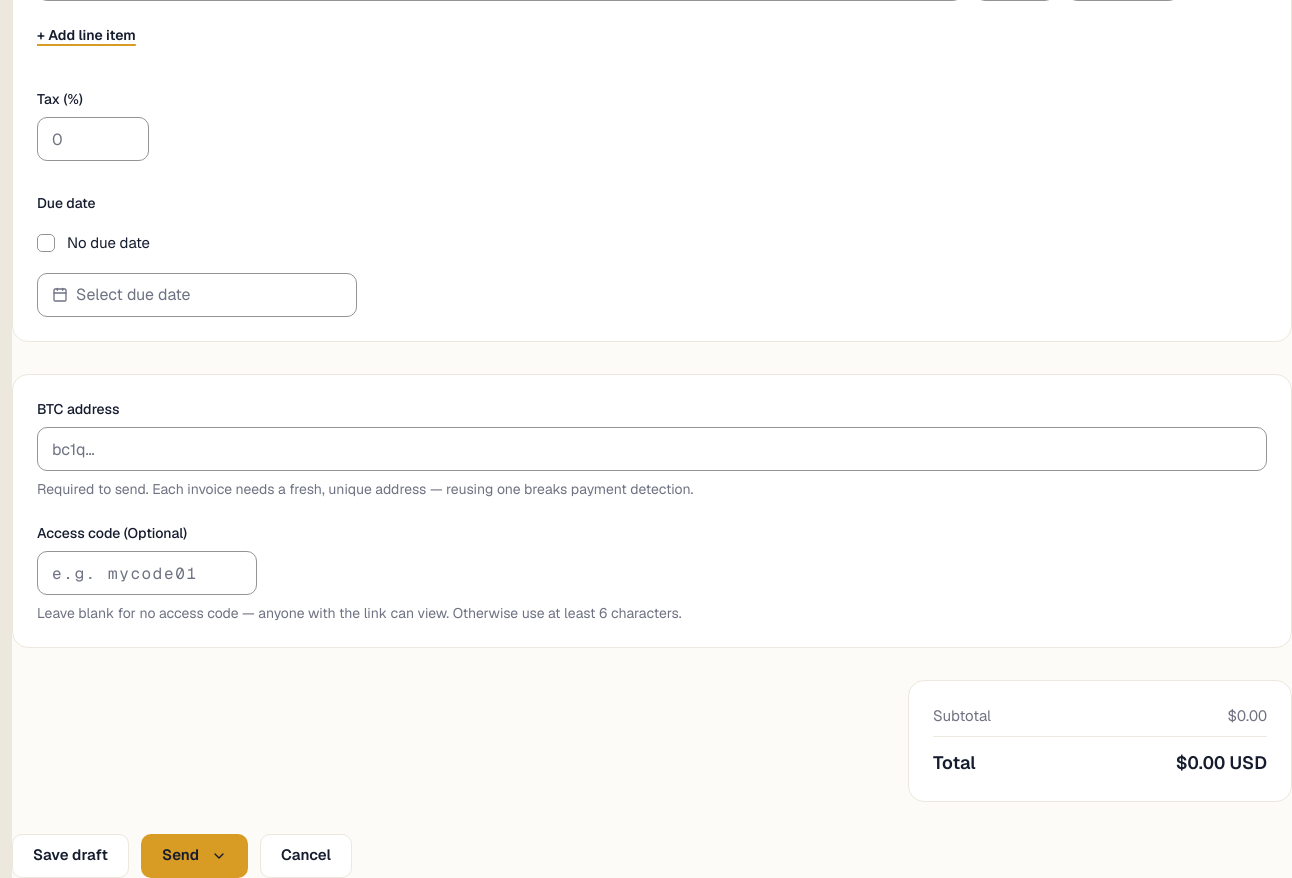
InvoiceForm Send menu (v1.5.19) › offers the three ways to send, and no Publish only
(page scrolled)
Click the button "Send" at (194, 856), box [141,834,248,877]
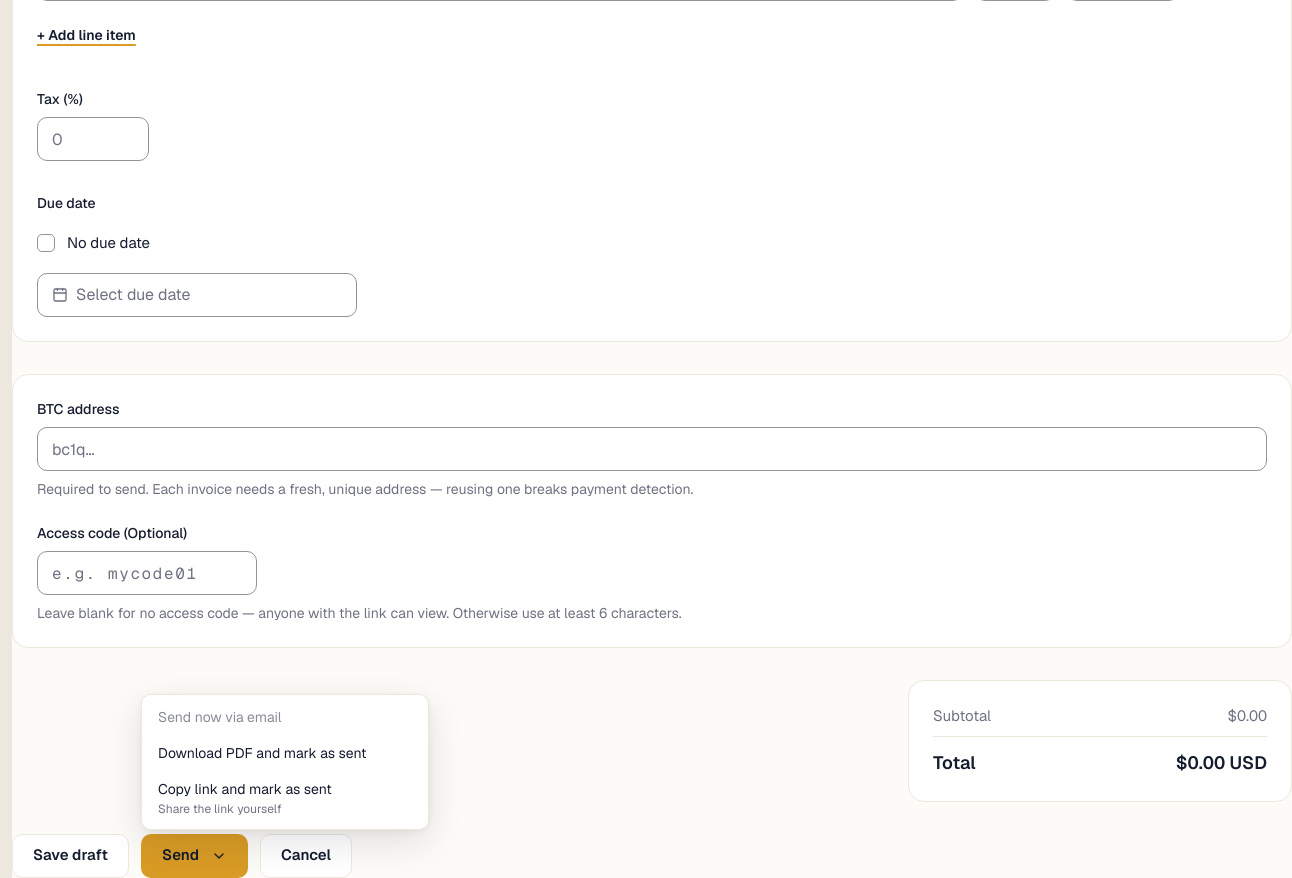
Now the menu item "Send now via email" is shown, box [158,708,282,726]
Now the menu item "Download PDF and mark as sent" is shown, box [158,744,366,762]
Now the menu item "Copy link and mark as sent Share the link yourself" is shown, box [158,780,332,817]
